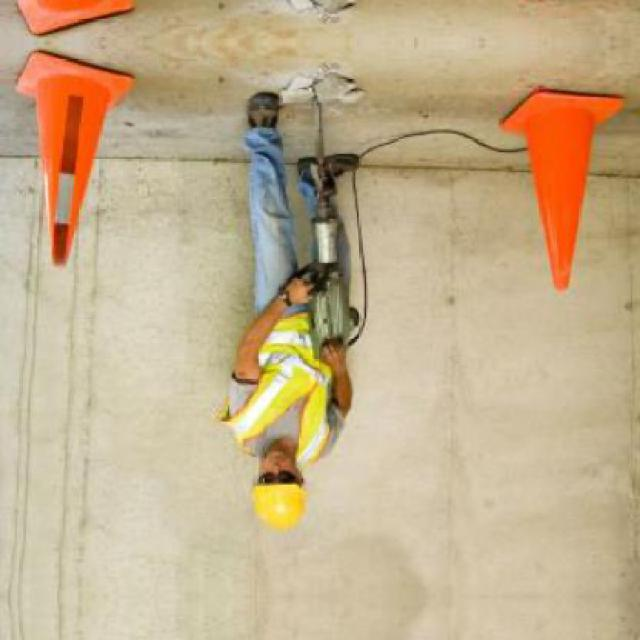con casco: (205, 386, 338, 562)
